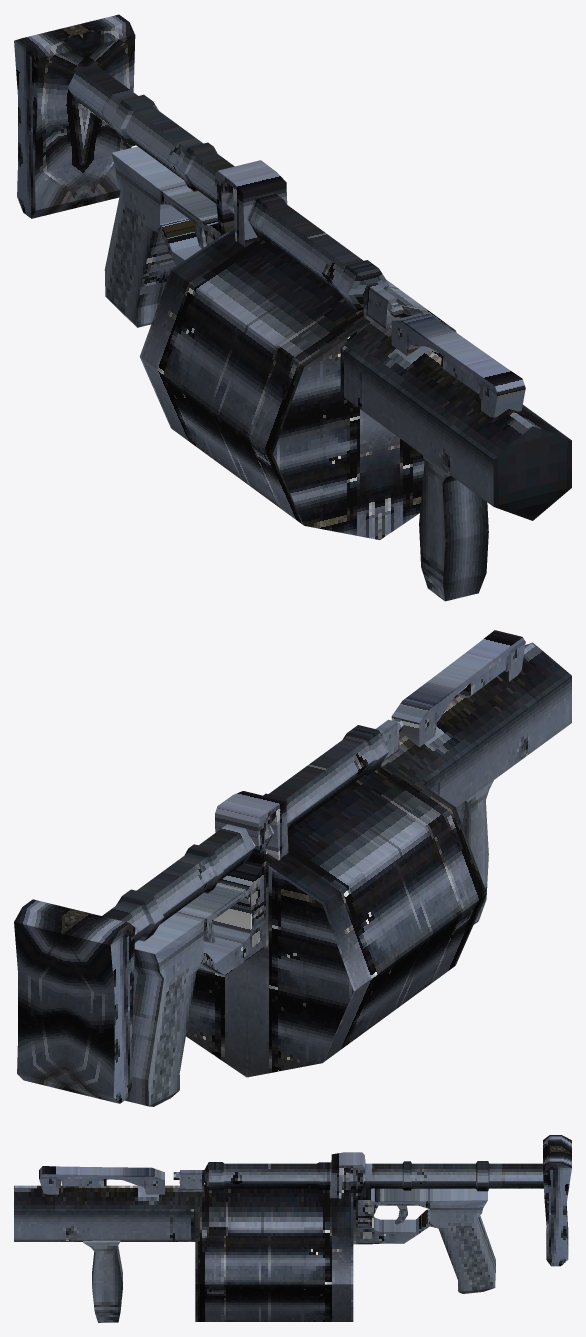
File: grenade_launcher.glb
3 views of the same model, one above another, from view 1: azimuth 30°, elevation 25°; view 2: azimuth 150°, elevation 25°; view 3: azimuth 270°, elevation 25° (orthographic). The views are drawn at different scales.
Visible parts, largest first — view 1: grenadeLauncher; view 2: grenadeLauncher; view 3: grenadeLauncher.
Part boxes in pixels (<box>): grenadeLauncher: <box>14,14,571,601</box>; grenadeLauncher: <box>14,630,571,1106</box>; grenadeLauncher: <box>14,1135,571,1322</box>.
Bounding box in the file's own units: 0.1972 × 0.2529 × 0.75.
Materials: 1 (1 with a texture image).
